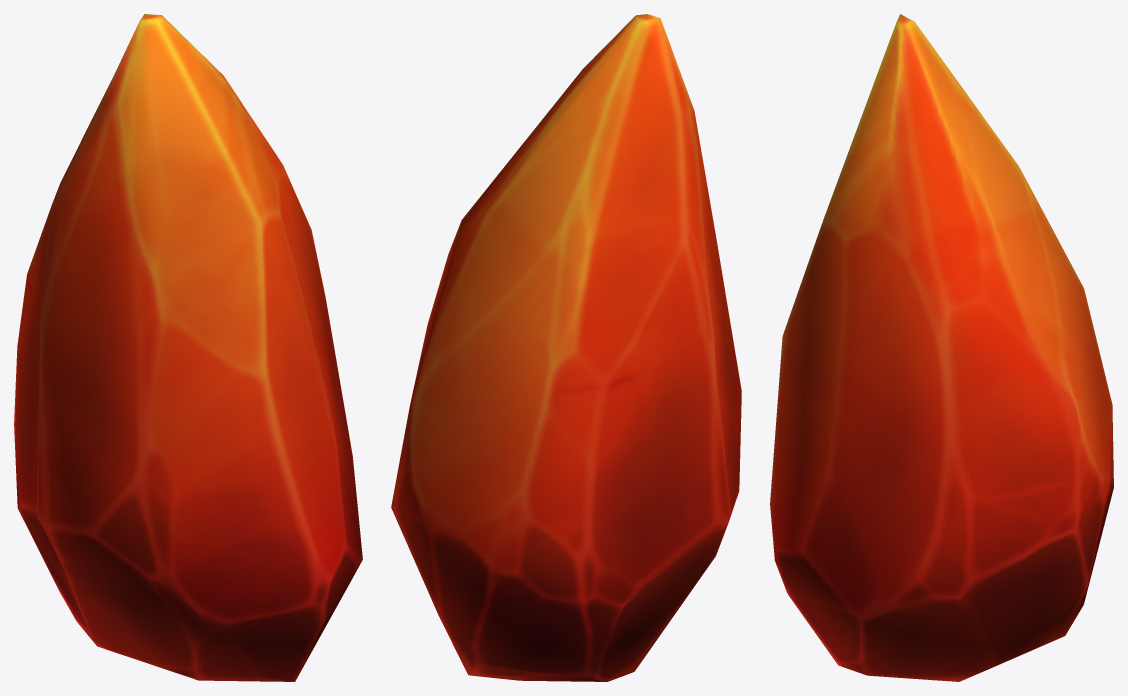
File: SM_Gem_FireCrystal_002.fbx
3 renders of one model, left to right at view 1: azimuth 30°, elevation 25°; view 2: azimuth 150°, elevation 25°; view 3: azimuth 270°, elevation 25°, orthographic. The views are drawn at different scales.
Visible parts, largest first — view 1: SM_Gem_FireCrystal_002; view 2: SM_Gem_FireCrystal_002; view 3: SM_Gem_FireCrystal_002.
Part boxes in pixels (left/top/right/bottom): SM_Gem_FireCrystal_002: left=14, top=14, right=362, bottom=681; SM_Gem_FireCrystal_002: left=391, top=14, right=741, bottom=681; SM_Gem_FireCrystal_002: left=770, top=14, right=1113, bottom=681.
Bounding box in the file's own units: 17.43 × 35.8 × 18.41.
